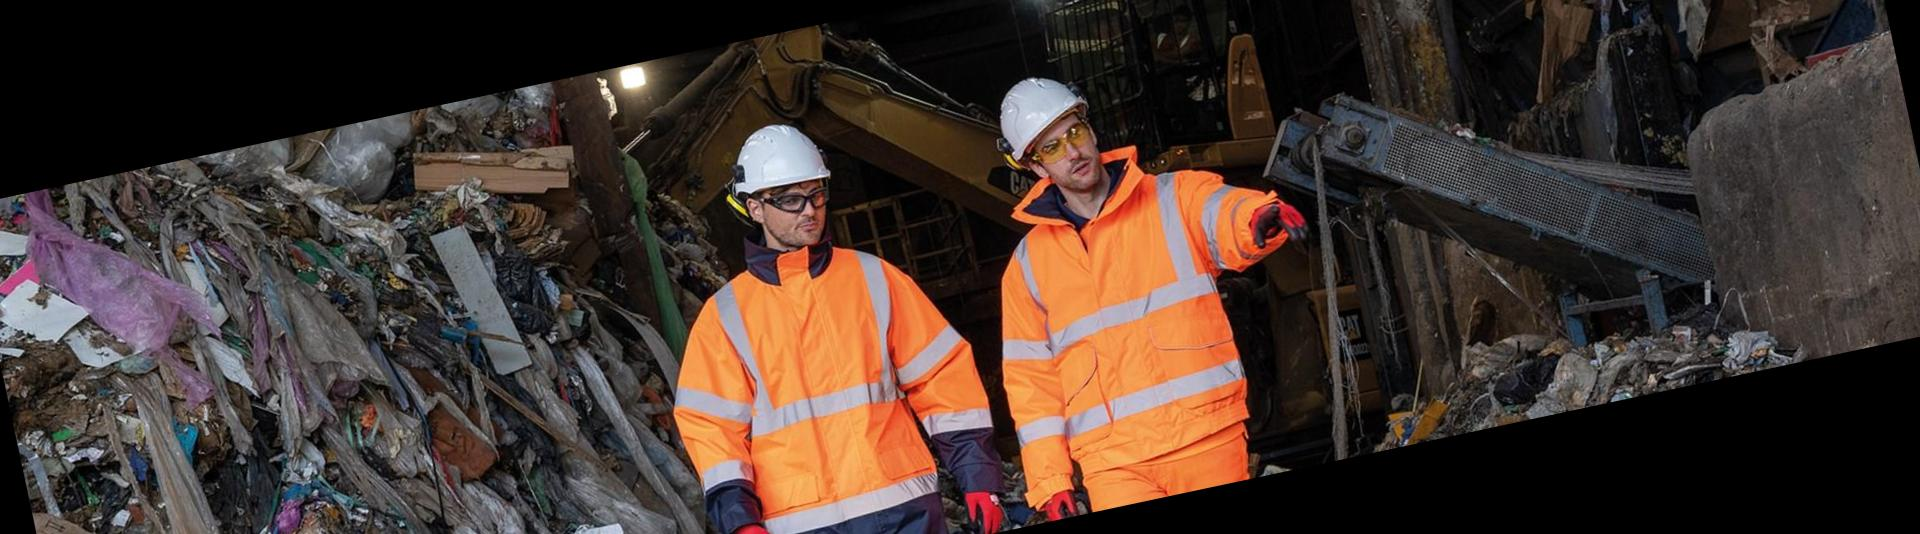Vest: (656, 208, 999, 534), (964, 174, 1266, 525)
